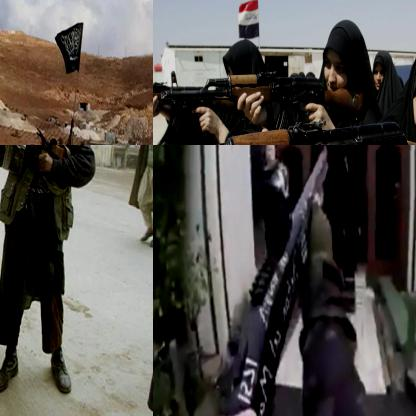rifle: (212, 145, 332, 415), (153, 68, 364, 123)
